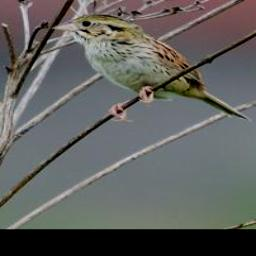Sparrow: (48, 11, 252, 122)
